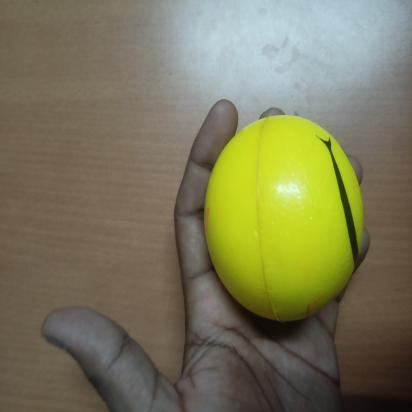Yellowball: (199, 94, 371, 332)
